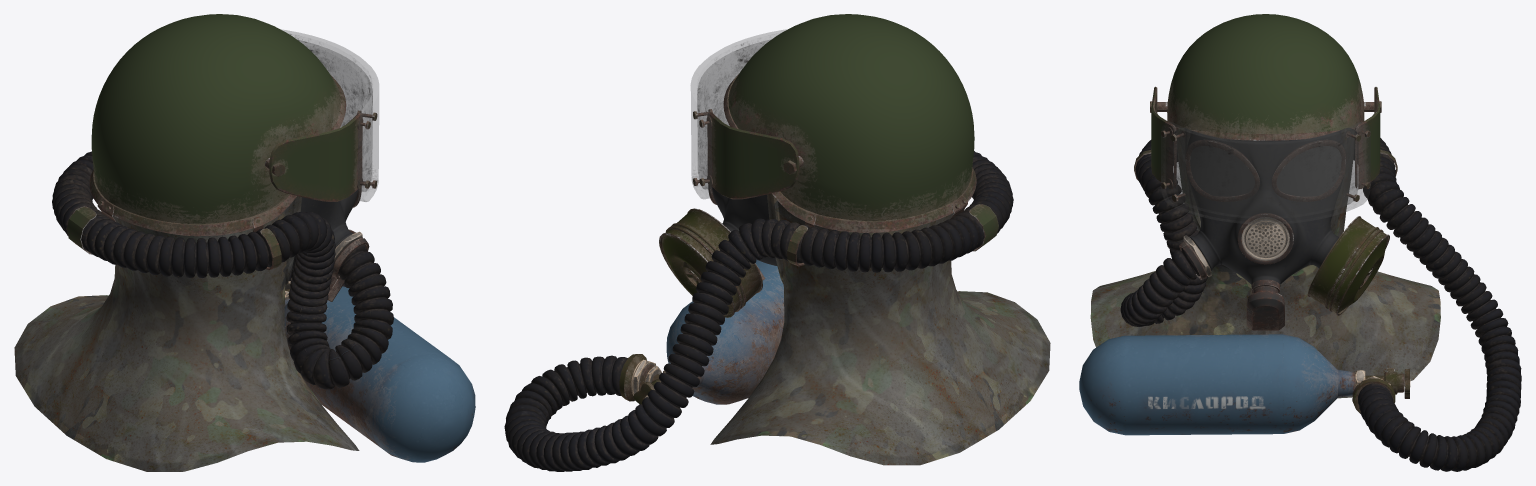
File: gas_mask_and_helmet_easterneuropean.glb
3 views of the same model, side by side, from view 1: azimuth 30°, elevation 25°; view 2: azimuth 150°, elevation 25°; view 3: azimuth 270°, elevation 25° (orthographic). The views are drawn at different scales.
Visible parts, largest first — view 1: Object_10, Object_12, Object_18, Object_16, Object_14, Object_6, Object_8; view 2: Object_10, Object_12, Object_18, Object_16, Object_14, Object_6; view 3: Object_16, Object_18, Object_10, Object_12, Object_14, Object_8, Object_6.
Boxes of the visible parts, x1,y1,x2,y2 form: Object_10: (14, 196, 359, 471); Object_12: (66, 14, 346, 270); Object_18: (52, 151, 393, 389); Object_16: (284, 278, 475, 462); Object_14: (265, 30, 378, 201); Object_6: (291, 189, 358, 269); Object_8: (328, 188, 369, 301); Object_10: (710, 193, 1050, 465); Object_12: (723, 14, 998, 266); Object_18: (504, 151, 1013, 471); Object_16: (619, 208, 784, 404); Object_14: (691, 29, 803, 199); Object_6: (711, 187, 777, 265); Object_16: (1079, 216, 1410, 435); Object_18: (1120, 131, 1521, 471); Object_10: (1090, 128, 1440, 398); Object_12: (1134, 14, 1397, 180); Object_14: (1150, 86, 1381, 224); Object_8: (1179, 140, 1345, 330); Object_6: (1187, 130, 1343, 286).
Bounding box in the file's own units: 6.3 × 6.11 × 6.95.
Materials: 5 (5 with a texture image).
